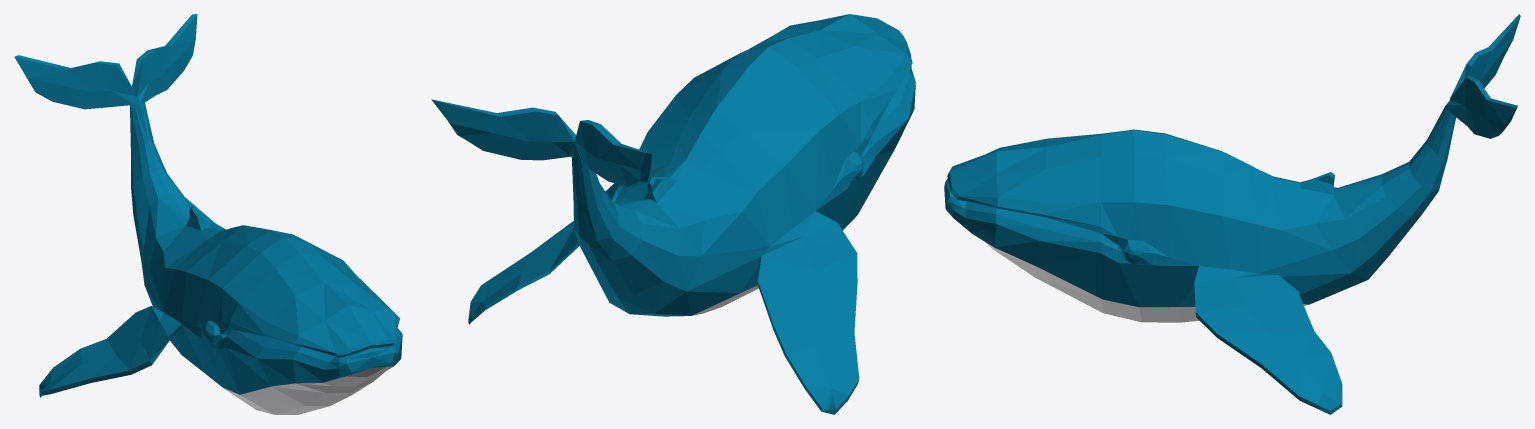
Rendered from whale.glb.
The picture shows the model from 3 angles, left to right: view 1: azimuth 30°, elevation 25°; view 2: azimuth 150°, elevation 25°; view 3: azimuth 270°, elevation 25°; orthographic projection. The views are drawn at different scales.
Visible parts, largest first — view 1: Whale_whale_mat_0; view 2: Whale_whale_mat_0; view 3: Whale_whale_mat_0.
Part boxes in pixels (x1=…): Whale_whale_mat_0: x1=14, y1=14, x2=402, y2=414; Whale_whale_mat_0: x1=431, y1=14, x2=915, y2=414; Whale_whale_mat_0: x1=944, y1=14, x2=1520, y2=414.
Bounding box in the file's own units: 3.29 × 2.66 × 5.
